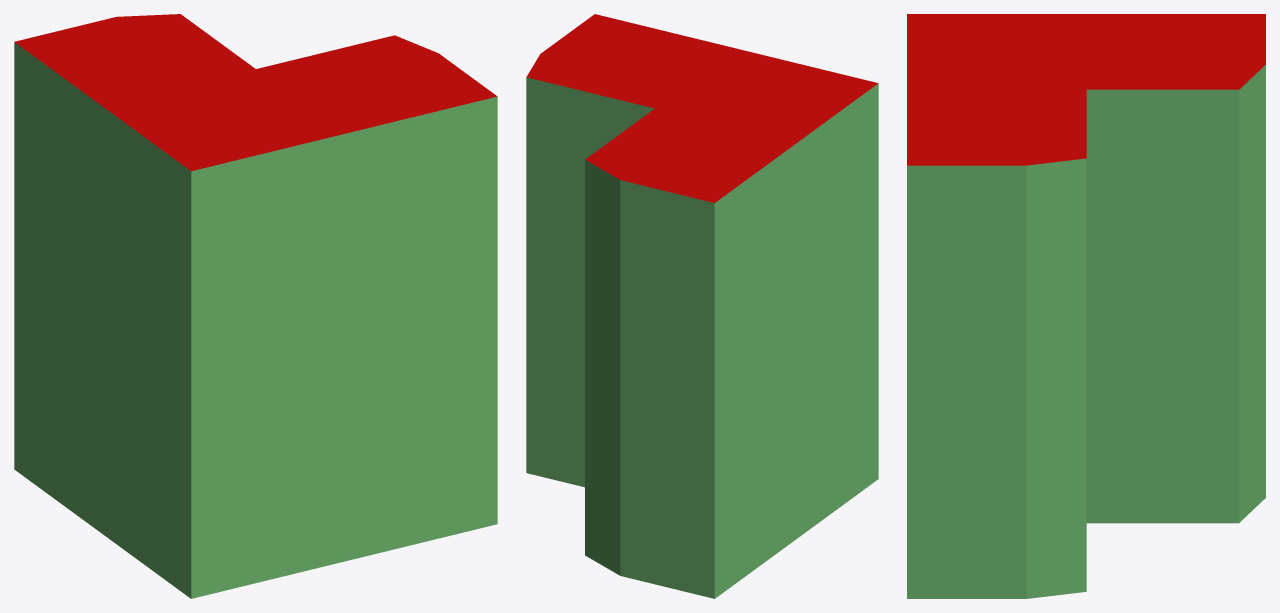
The model's file is x_00_colonn_27_1.fbx.
The picture shows the model from 3 angles, left to right: view 1: azimuth 30°, elevation 25°; view 2: azimuth 150°, elevation 25°; view 3: azimuth 270°, elevation 25°; orthographic projection. The views are drawn at different scales.
Parts seen in each view (by area): view 1: x_00_colonn_27_1_1; view 2: x_00_colonn_27_1_1; view 3: x_00_colonn_27_1_1.
Part boxes in pixels (bbox=[...]): x_00_colonn_27_1_1: bbox=[14, 14, 497, 598]; x_00_colonn_27_1_1: bbox=[526, 14, 878, 598]; x_00_colonn_27_1_1: bbox=[907, 14, 1265, 598].
Bounding box in the file's own units: 3 × 4 × 3.
